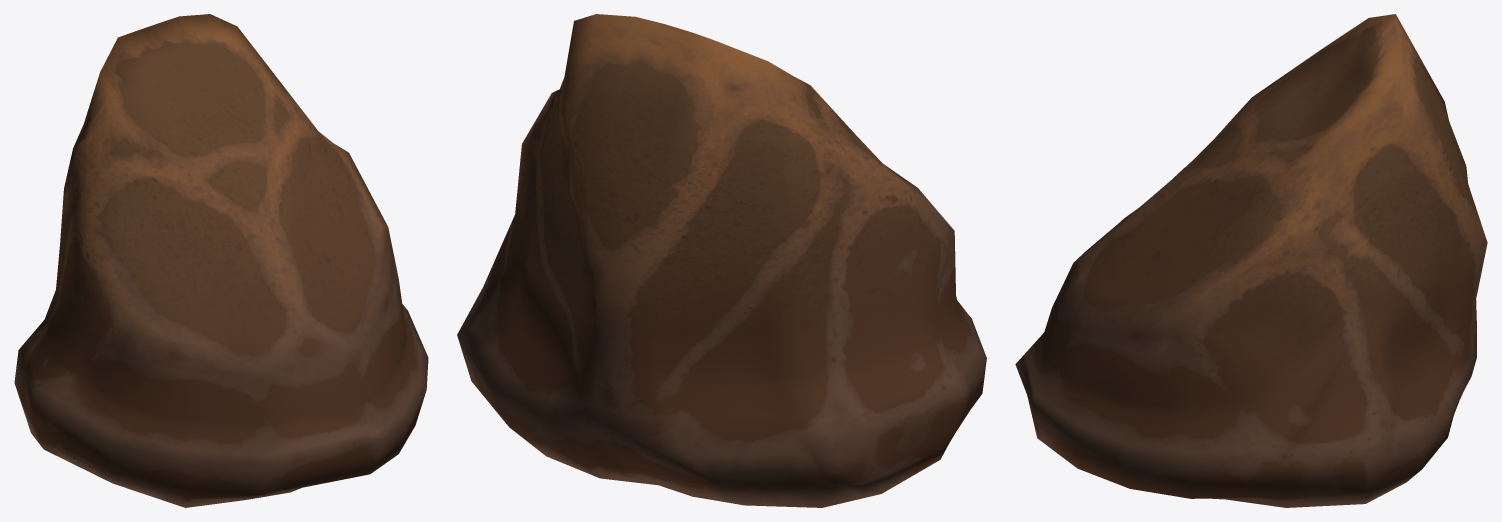
The model's file is LOD_0_Rock.fbx.
The picture shows the model from 3 angles, left to right: view 1: azimuth 30°, elevation 25°; view 2: azimuth 150°, elevation 25°; view 3: azimuth 270°, elevation 25°; orthographic projection. The views are drawn at different scales.
Visible parts, largest first — view 1: LOD_0; view 2: LOD_0; view 3: LOD_0.
Boxes of the visible parts, x1,y1,x2,y2 form: LOD_0: [14, 14, 428, 507]; LOD_0: [457, 14, 986, 507]; LOD_0: [1015, 14, 1487, 507].
Bounding box in the file's own units: 2.83 × 2.61 × 2.75.
